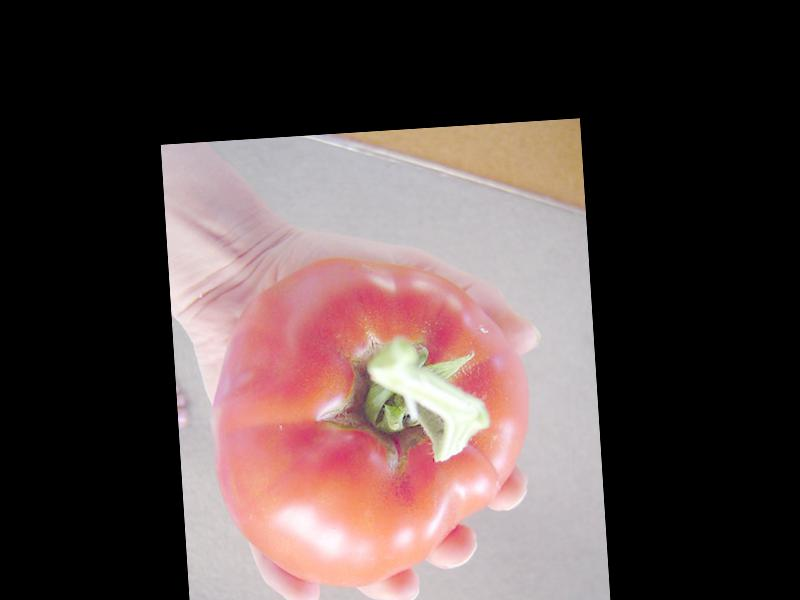Tomato: (202, 246, 541, 594)
